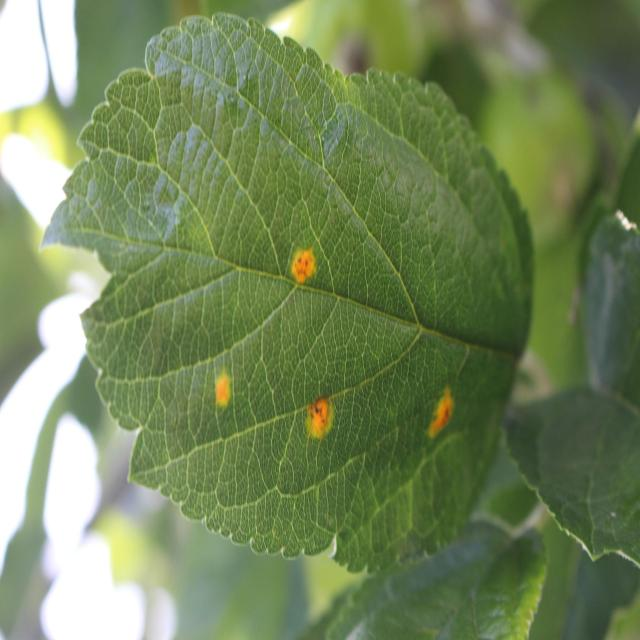Rust: (413, 372, 467, 454), (293, 385, 340, 450), (281, 244, 323, 301), (210, 363, 237, 427)
